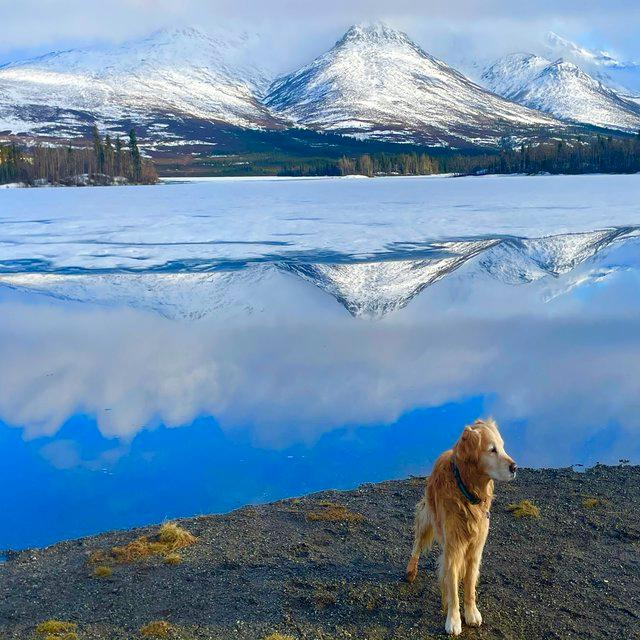retriever: (405, 416, 519, 636)
